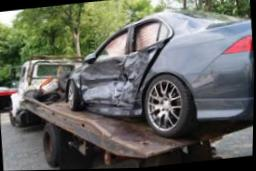Door: (79, 19, 172, 113)
Fender: (66, 68, 86, 89)
